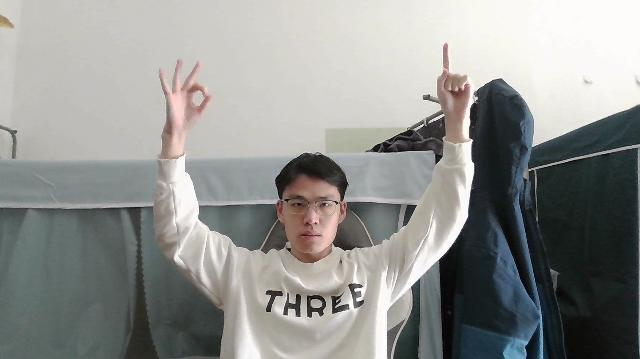ok: (156, 58, 212, 134)
one: (438, 40, 474, 118)
